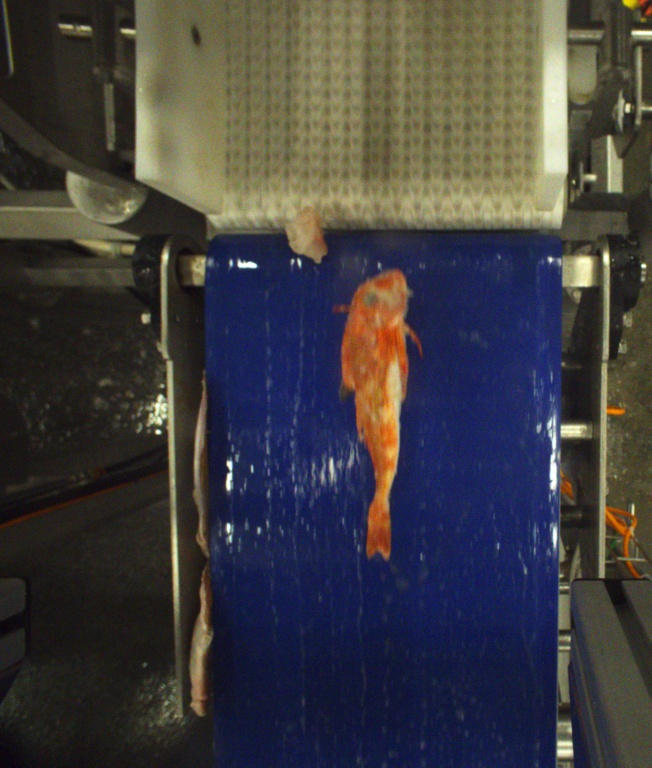GUU: (339, 269, 421, 561)
